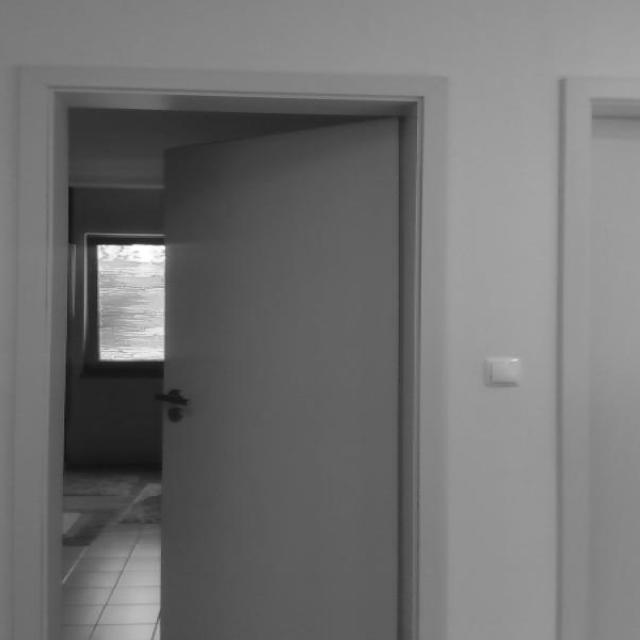Door: (158, 116, 402, 639)
